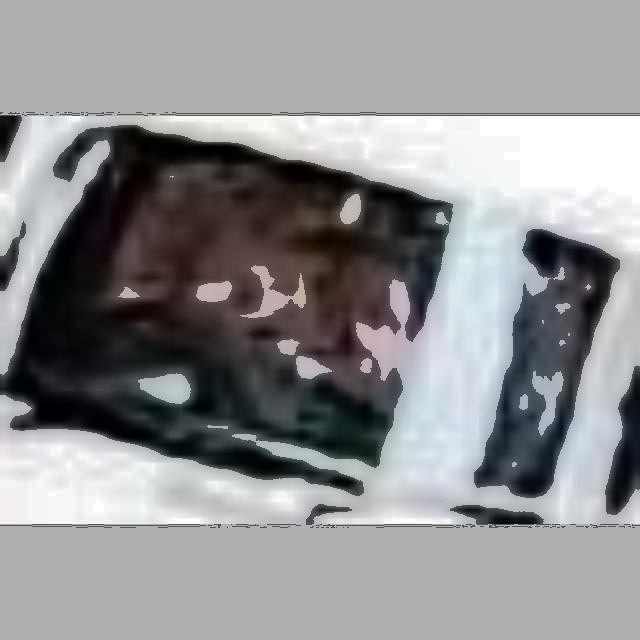tidak-pakai: (139, 190, 380, 404)
